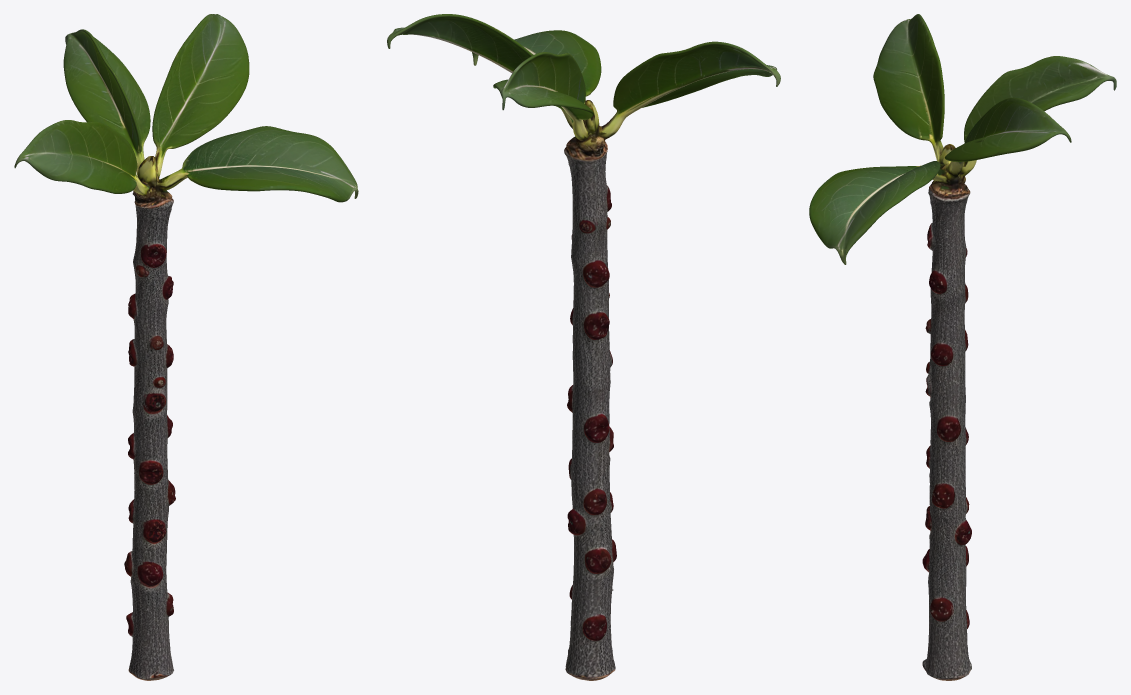
The model's file is chenxiang.glb.
3 renders of one model, left to right at view 1: azimuth 30°, elevation 25°; view 2: azimuth 150°, elevation 25°; view 3: azimuth 270°, elevation 25°, orthographic. The views are drawn at different scales.
Parts seen in each view (by area): view 1: node_0; view 2: node_0; view 3: node_0.
Part boxes in pixels (box(x1,y1,x2,y2)): node_0: box(14, 14, 358, 680); node_0: box(387, 14, 780, 680); node_0: box(809, 14, 1116, 680).
Size of the model in its own units: 0.5945 by 1.11 by 0.4977.
Materials: 1 (1 with a texture image).
